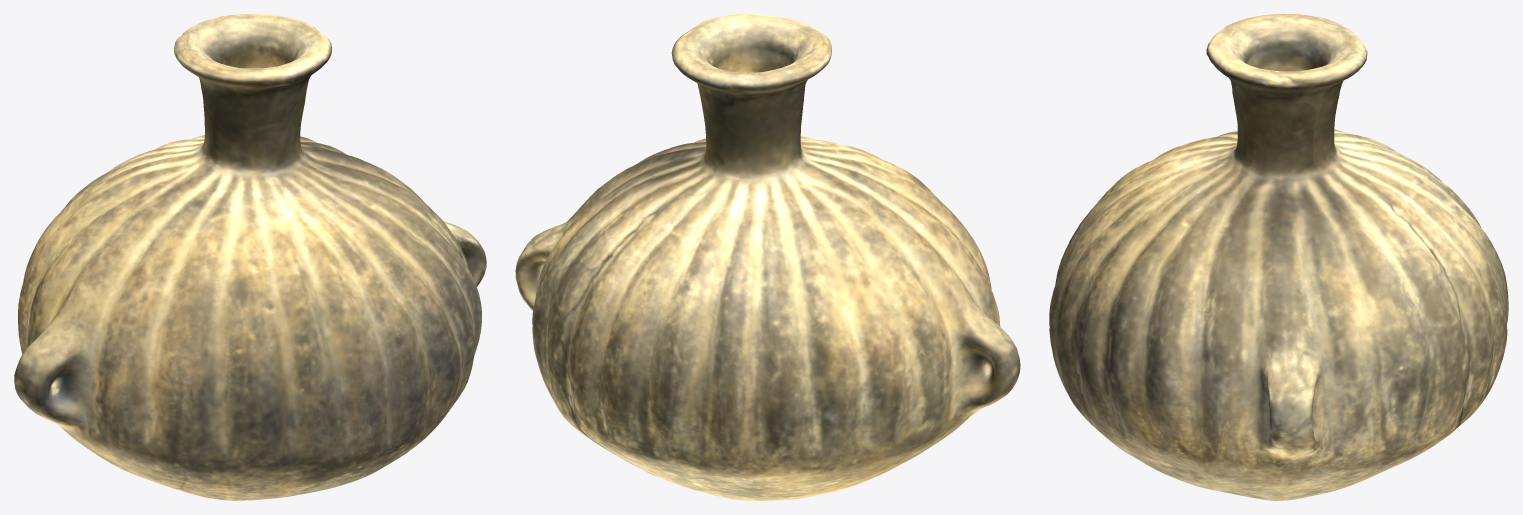
The model's file is botella_escultorica.glb.
3 views of the same model, side by side, from view 1: azimuth 30°, elevation 25°; view 2: azimuth 150°, elevation 25°; view 3: azimuth 270°, elevation 25° (orthographic).
Visible parts, largest first — view 1: Model; view 2: Model; view 3: Model.
Boxes of the visible parts, left/top/right/bottom form: Model: left=14, top=14, right=486, bottom=500; Model: left=515, top=14, right=1020, bottom=500; Model: left=1049, top=14, right=1508, bottom=500.
Bounding box in the file's own units: 5.48 × 4.65 × 4.55.
